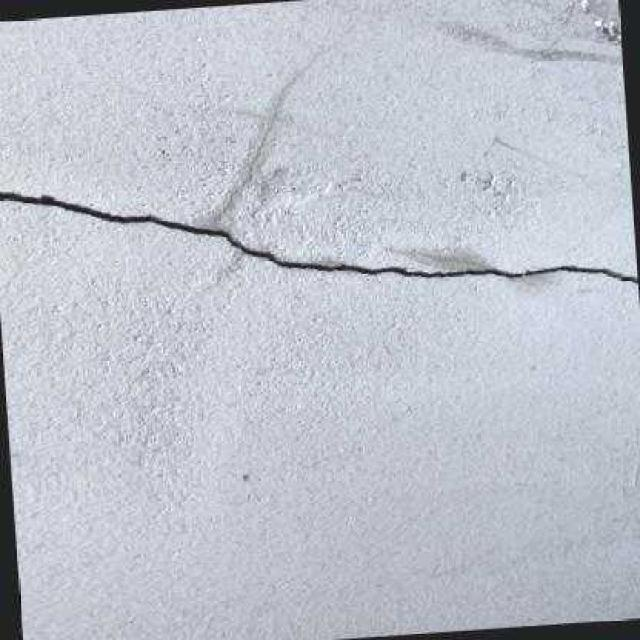D00: (0, 191, 638, 284)
